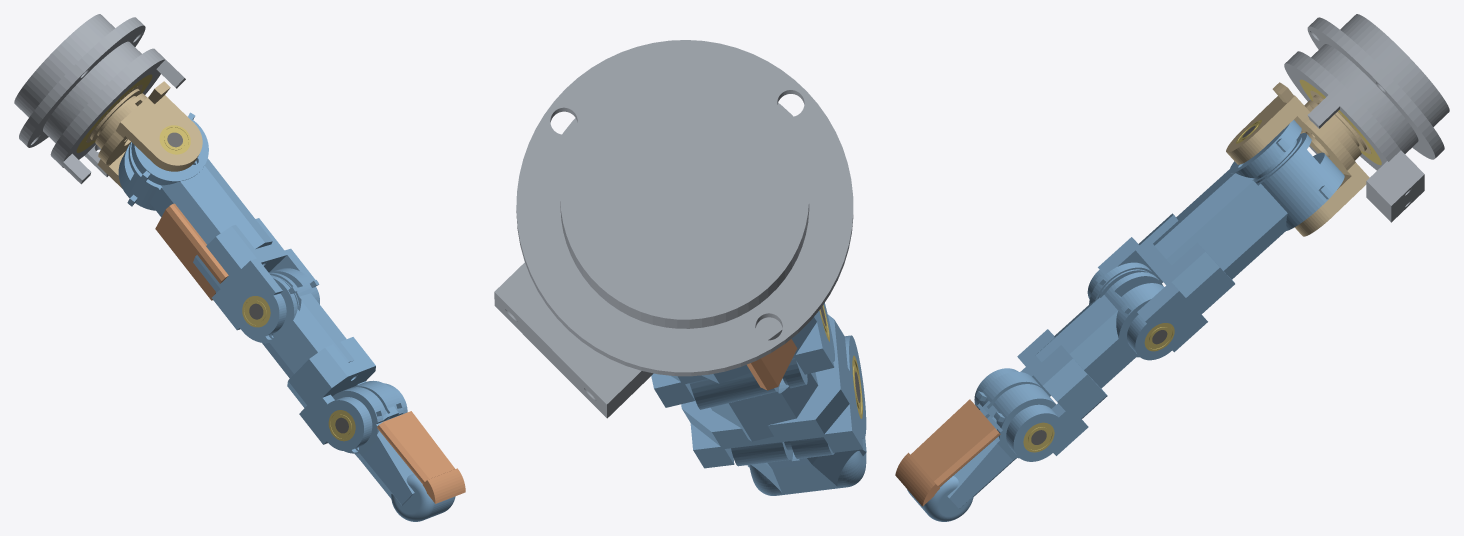
The model's file is thumb_rest.glb.
The picture shows the model from 3 angles, left to right: view 1: azimuth 30°, elevation 25°; view 2: azimuth 150°, elevation 25°; view 3: azimuth 270°, elevation 25°; orthographic projection. The views are drawn at different scales.
Parts seen in each view (by area): view 1: thumb_metacarpal, thumb_mount, thumb_proximal, thumb_base, thumb_distal, thumb_pad, thenar_pad, bearing_cmc_flex_l, bearing_mcp_flex_r, bearing_ip_r; view 2: thumb_mount, thumb_proximal, thumb_distal, thumb_metacarpal, thenar_pad; view 3: thumb_metacarpal, thumb_mount, thumb_proximal, thumb_base, thumb_distal, thumb_pad.
Boxes of the visible parts, <box> form: thumb_metacarpal: <box>118,112,319,337</box>; thumb_mount: <box>14,14,185,184</box>; thumb_proximal: <box>242,268,407,450</box>; thumb_base: <box>86,81,202,188</box>; thumb_distal: <box>332,380,455,521</box>; thumb_pad: <box>377,411,465,503</box>; thenar_pad: <box>155,203,228,300</box>; bearing_cmc_flex_l: <box>159,125,190,154</box>; bearing_mcp_flex_r: <box>242,296,270,327</box>; bearing_ip_r: <box>328,410,355,441</box>; thumb_mount: <box>494,40,853,418</box>; thumb_proximal: <box>681,314,866,468</box>; thumb_distal: <box>731,437,866,495</box>; thumb_metacarpal: <box>651,303,834,407</box>; thenar_pad: <box>747,339,797,390</box>; thumb_metacarpal: <box>1087,120,1344,360</box>; thumb_mount: <box>1284,14,1449,222</box>; thumb_proximal: <box>974,262,1164,461</box>; thumb_base: <box>1226,82,1370,236</box>; thumb_distal: <box>907,371,1055,521</box>; thumb_pad: <box>895,399,1000,506</box>.
Size of the model in its own units: 70.14 by 107 by 127.
